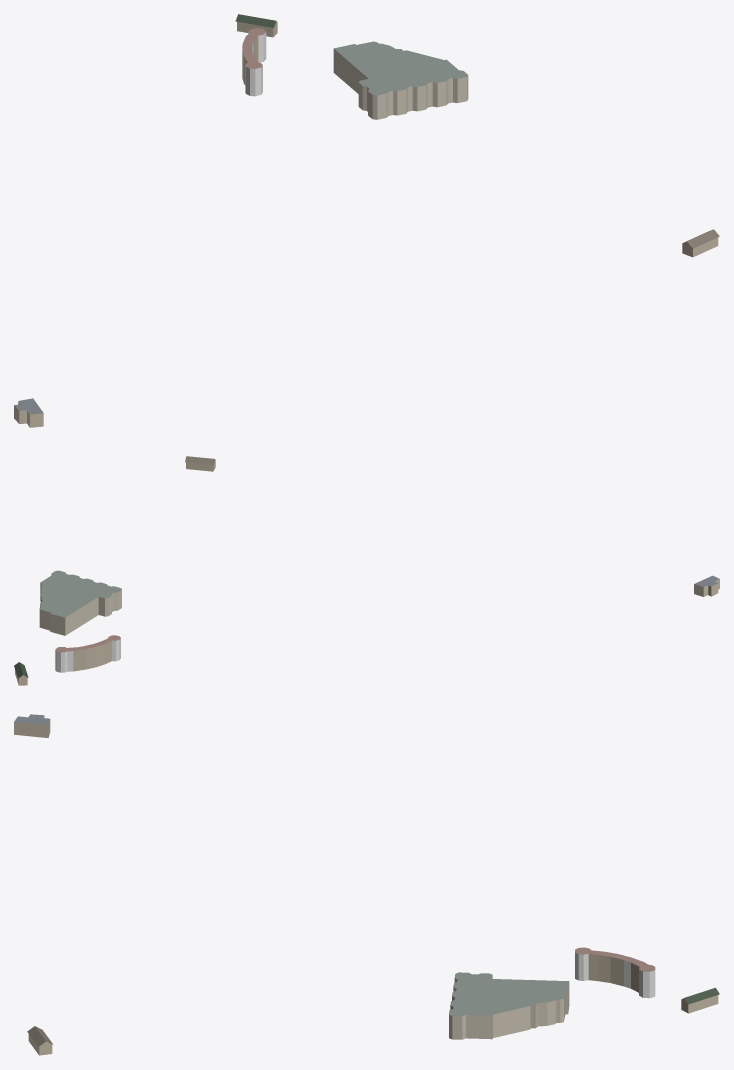
The picture shows the model from 3 angles, top to bottom: view 1: azimuth 30°, elevation 25°; view 2: azimuth 150°, elevation 25°; view 3: azimuth 270°, elevation 25°; orthographic projection. The views are drawn at different scales.
Visible parts, largest first — view 1: tuile; view 2: tuile; view 3: tuile.
Boxes of the visible parts, bbox=[...] form: tuile: bbox=[14, 14, 719, 427]; tuile: bbox=[14, 456, 719, 685]; tuile: bbox=[14, 714, 719, 1055].
Bounding box in the file's own units: 252 × 10.8 × 226.
